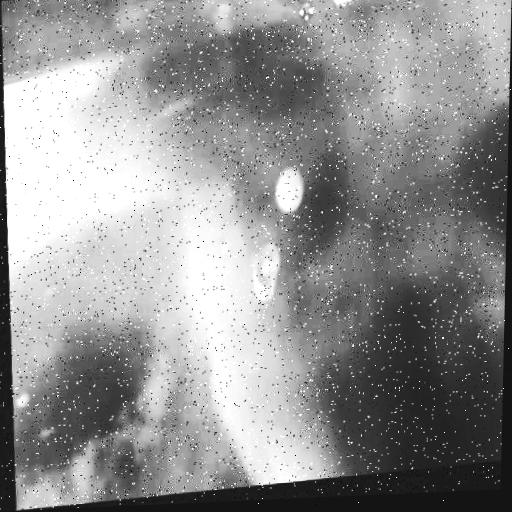balloon: (246, 243, 276, 304), (273, 172, 299, 215)
